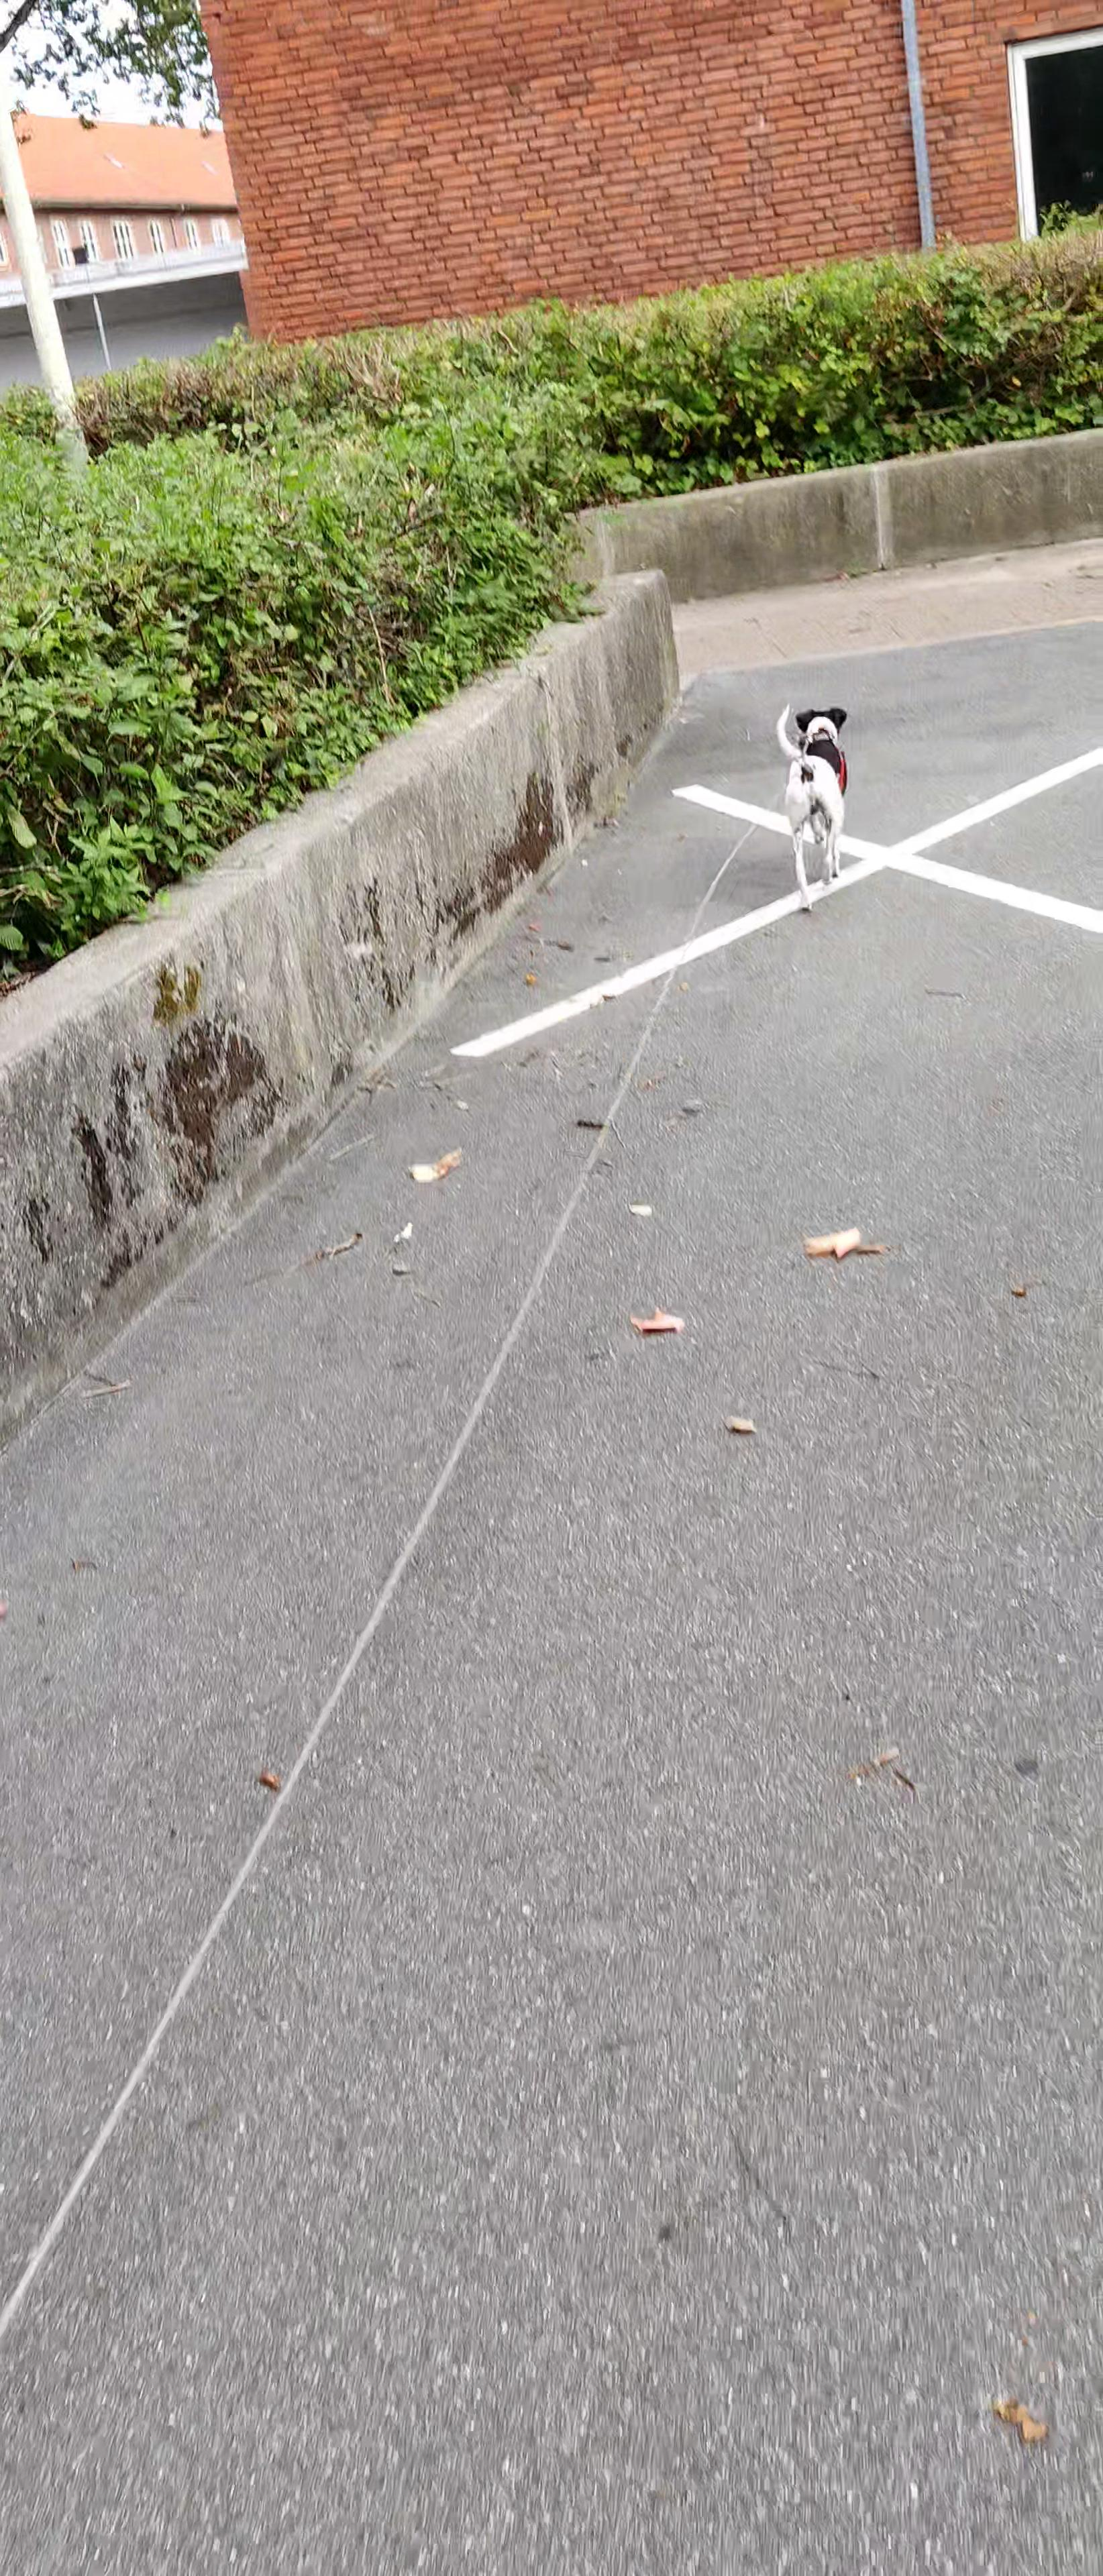Dog: (766, 698, 853, 918)
